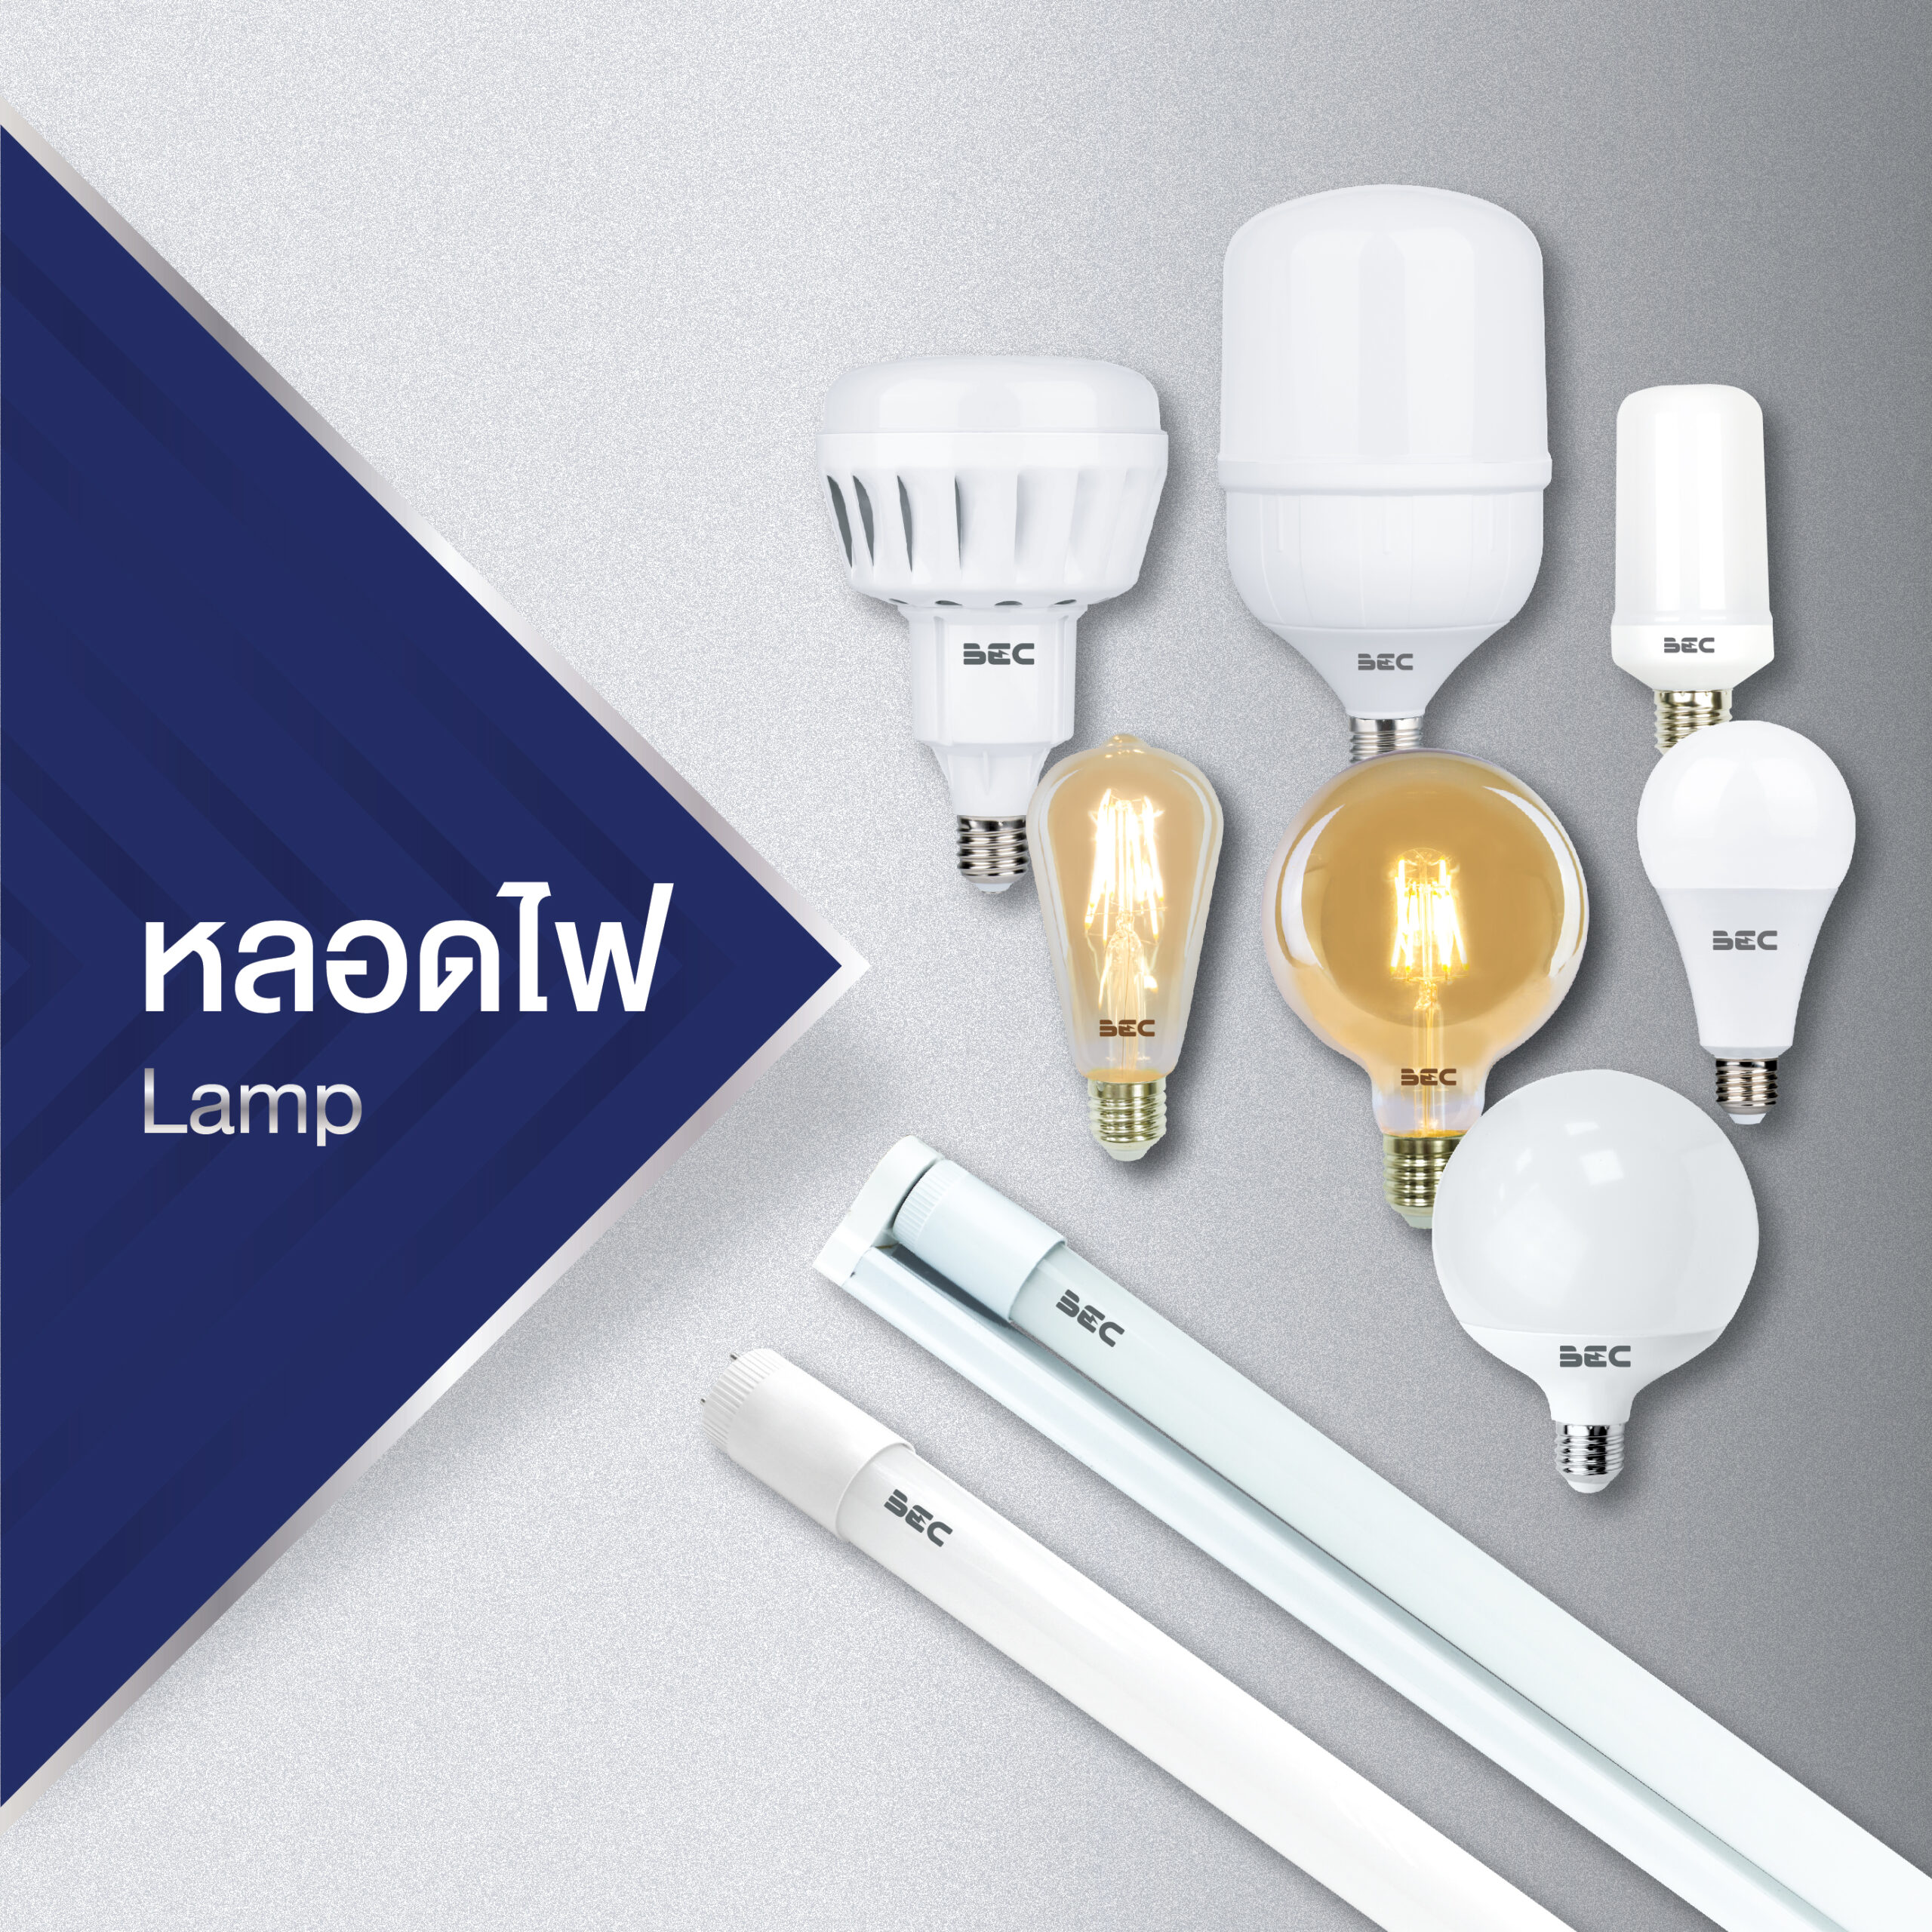Light_bulb: (888, 1162, 1932, 1932), (678, 1334, 1660, 1932), (1201, 173, 1573, 773), (791, 331, 1168, 862), (1244, 741, 1605, 1244), (1422, 1037, 1762, 1504), (1633, 695, 1874, 1161), (1014, 701, 1246, 1143), (1589, 357, 1821, 773)
